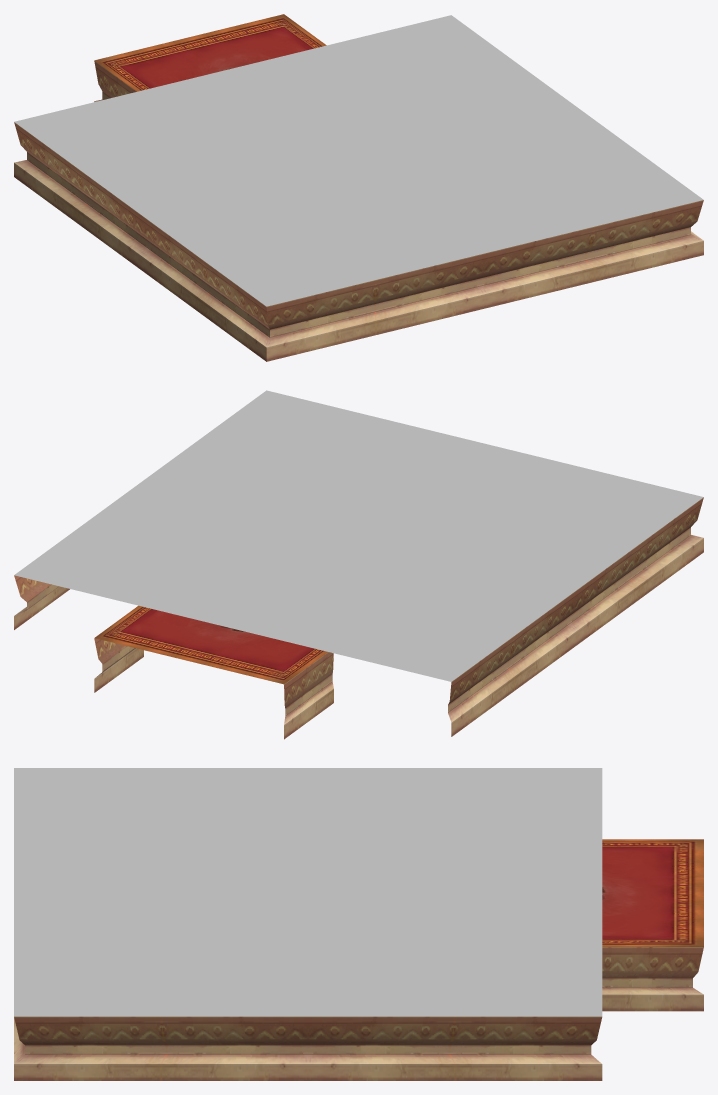
Rendered from biwutai.FBX.
3 views of the same model, one above another, from view 1: azimuth 30°, elevation 25°; view 2: azimuth 150°, elevation 25°; view 3: azimuth 270°, elevation 25° (orthographic). The views are drawn at different scales.
Parts seen in each view (by area): view 1: Object001, biwutai; view 2: Object001, biwutai; view 3: Object001, biwutai.
Part boxes in pixels (left/top/right/bottom): Object001: left=14, top=15, right=703, bottom=306; biwutai: left=14, top=14, right=703, bottom=361; Object001: left=14, top=390, right=703, bottom=681; biwutai: left=14, top=497, right=703, bottom=739; Object001: left=14, top=768, right=602, bottom=1016; biwutai: left=14, top=839, right=703, bottom=1080.
Bounding box in the file's own units: 2217 × 271 × 2600.
